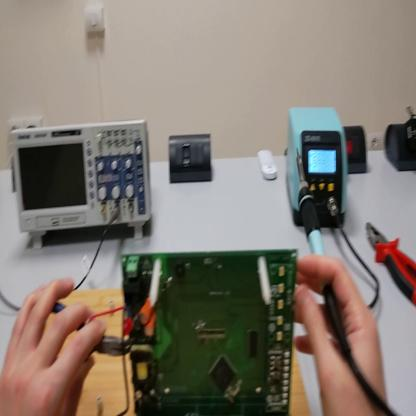hand: (291, 254, 386, 416), (2, 274, 106, 416)
low voltage board: (87, 250, 300, 416)
oscilloscope: (9, 121, 152, 251)
pliers: (51, 302, 137, 358), (367, 221, 415, 306)
socket: (385, 119, 416, 173), (344, 127, 368, 176)
welder probe tip: (294, 149, 358, 366)
welder station: (287, 109, 349, 228)
working area: (43, 289, 311, 413)
